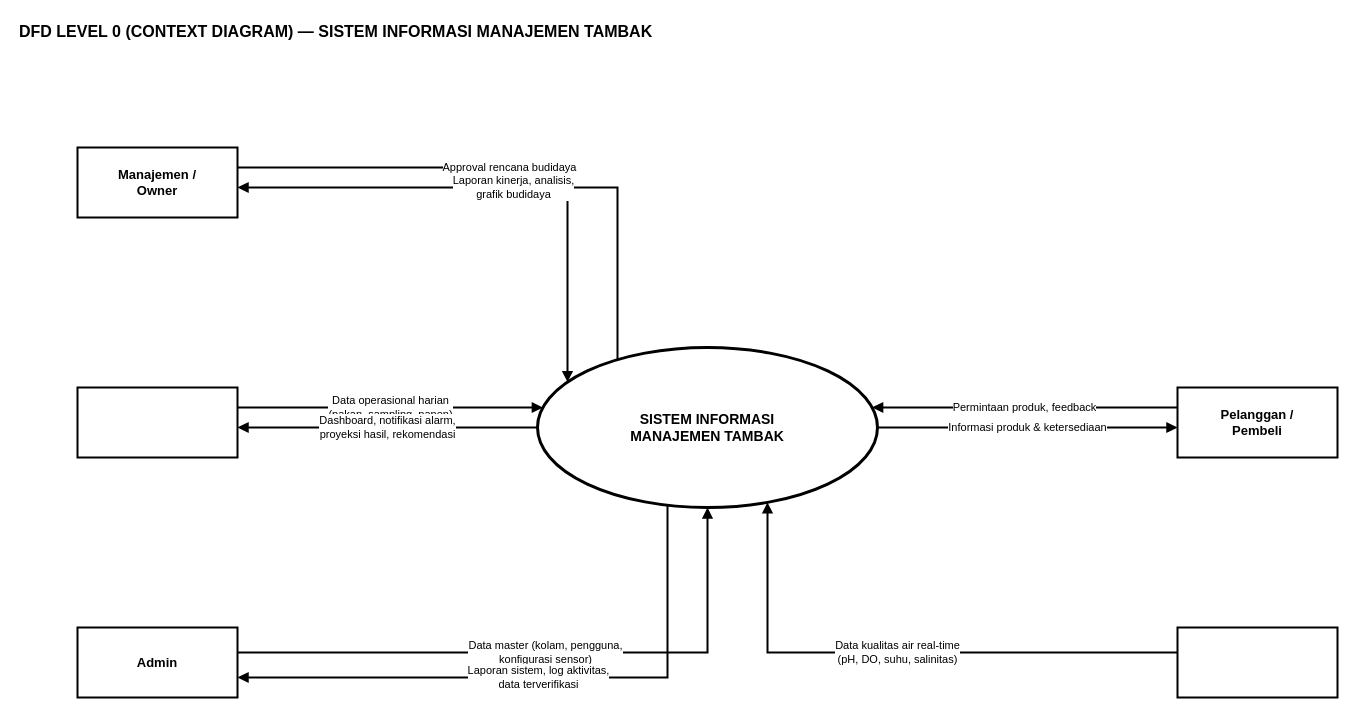
Image size: 1355x715. Some labels were removed from this diagram. Here are the shapes that lost their labels. From the top down, the centre of each, then its label:
point 157,422: Petambak / Operator
point 1257,662: Sensor IoT
